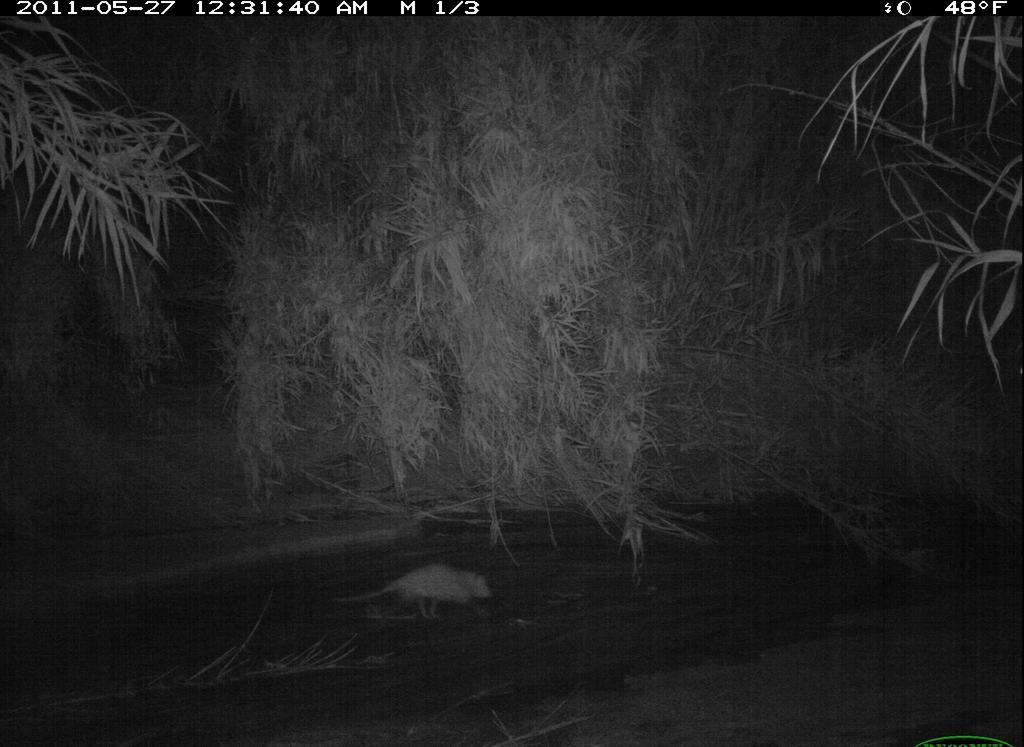opossum: (322, 548, 532, 632)
